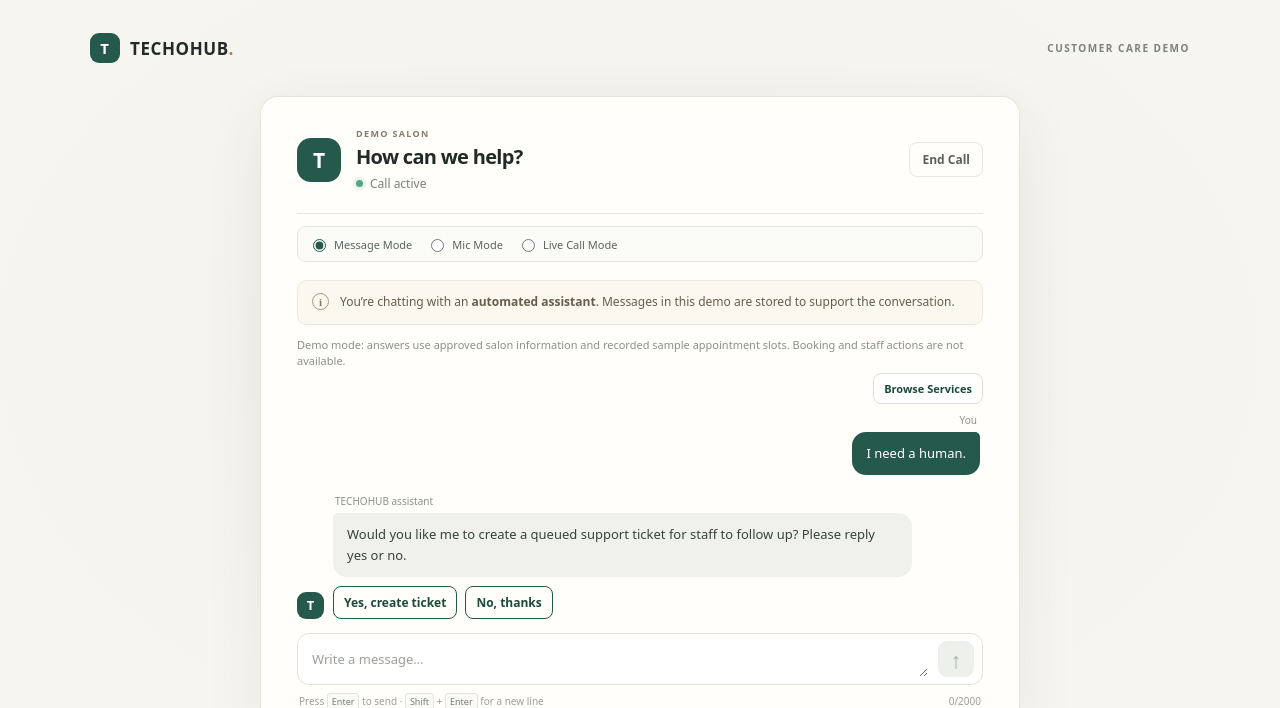
browser text chat › keeps handoff confirmation and catalog selection available across mode switches
The width and height of the screenshot is (1280, 708).
Earlier steps of the test are not shown.
(page scrolled)
Expected: the text "Would you like me to create a queued support ticket for staff to follow up? Please reply yes or no." is shown, [347, 525, 878, 564]
Click the radio button labelled "Live Call Mode" at (528, 246), box [522, 239, 535, 252]
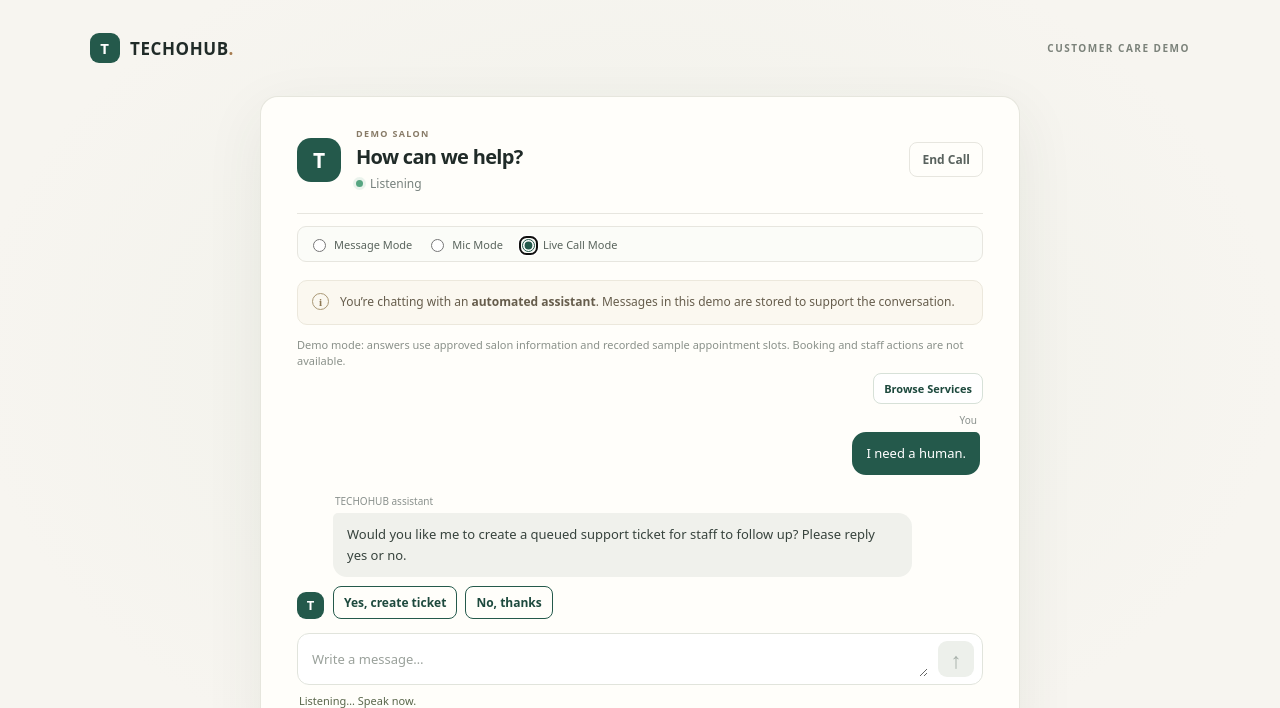
Click the radio button labelled "Mic Mode" at (438, 246), box [431, 239, 444, 252]
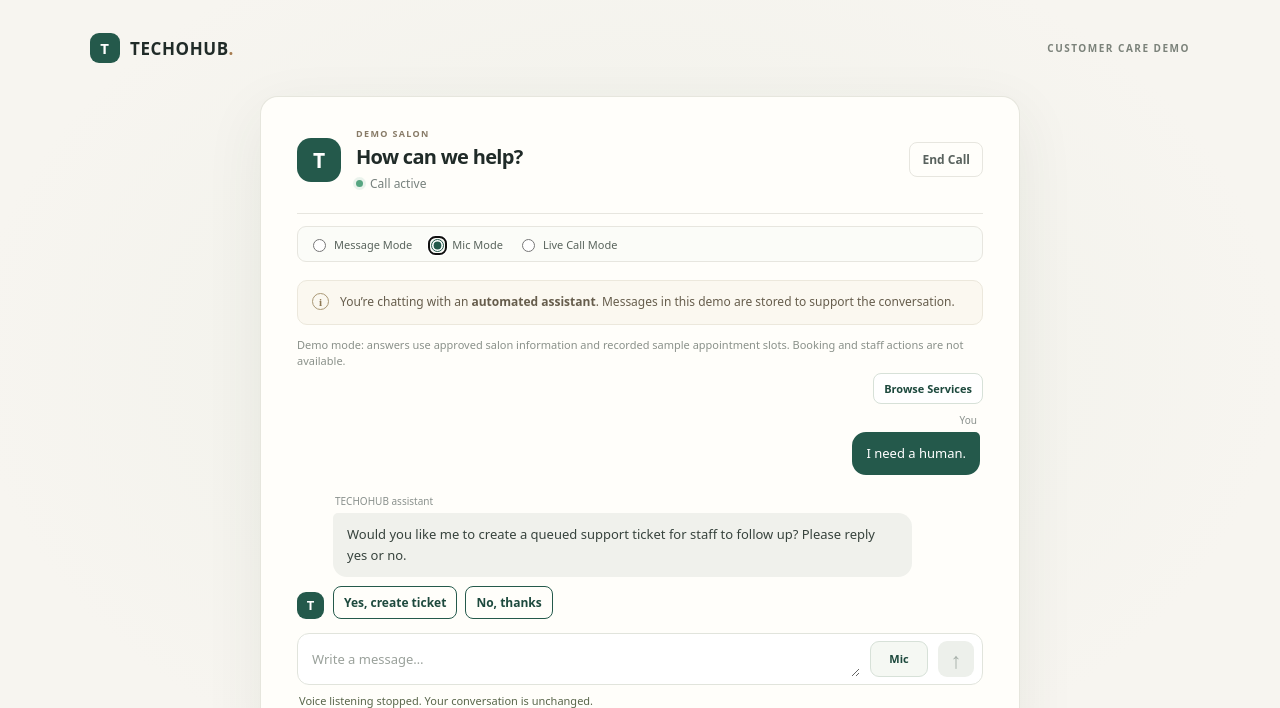
Click the button "Yes, create ticket" at (395, 602), box [333, 586, 457, 619]
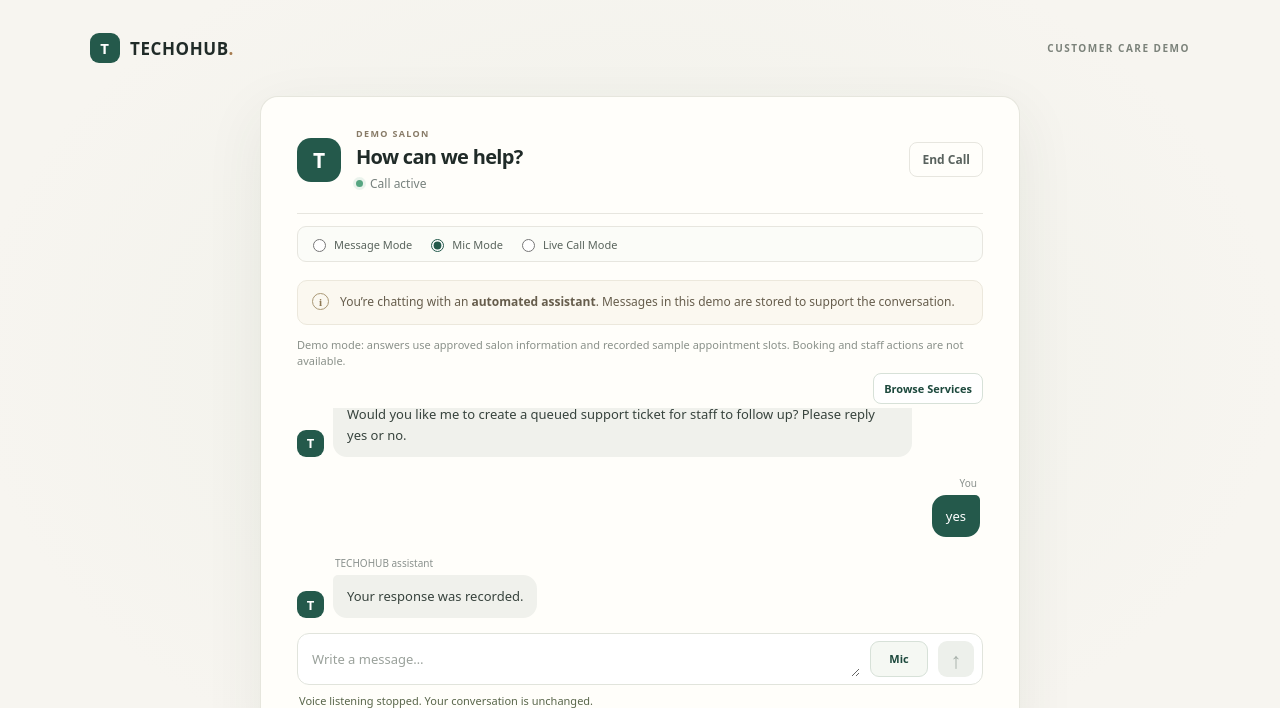
Expected: the text "yes" is shown, [932, 495, 980, 537]
Click the button "Browse Services" at (928, 388), box [873, 373, 983, 404]
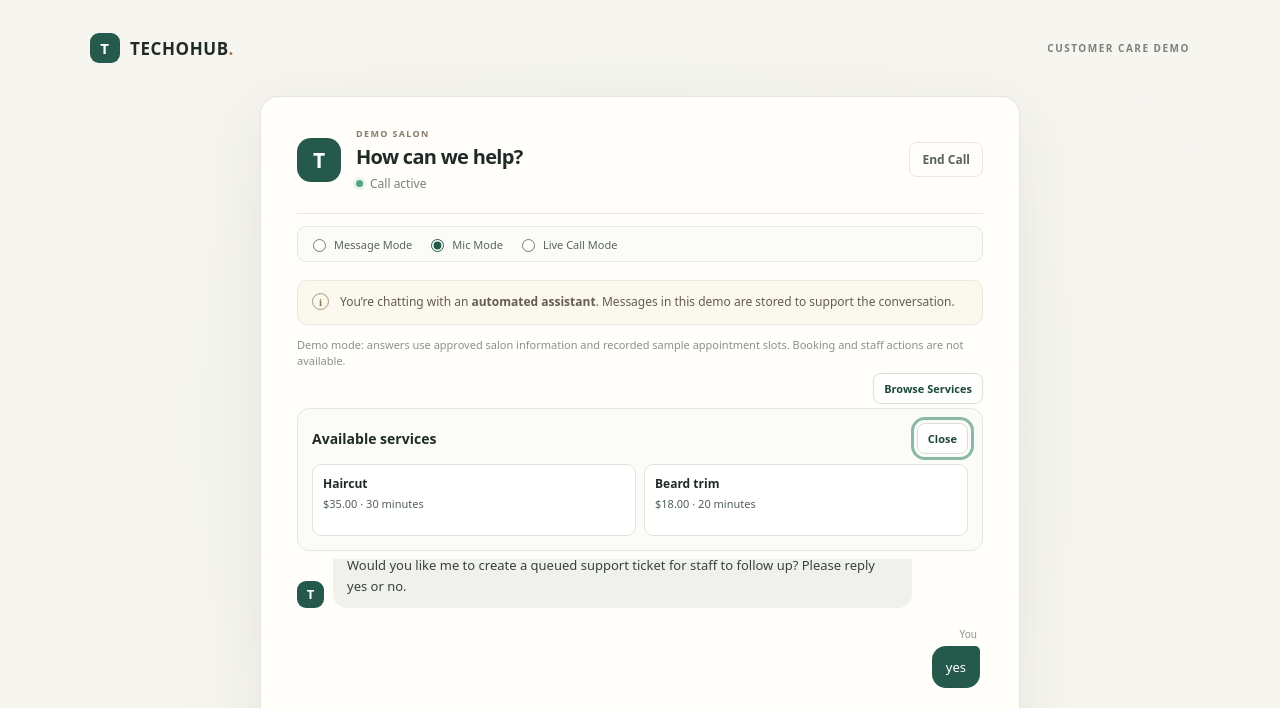
Expected: the button "Haircut $35.00 · 30 minutes" is shown, [312, 464, 636, 536]
Click the radio button labelled "Message Mode" at (320, 246), box [313, 239, 326, 252]
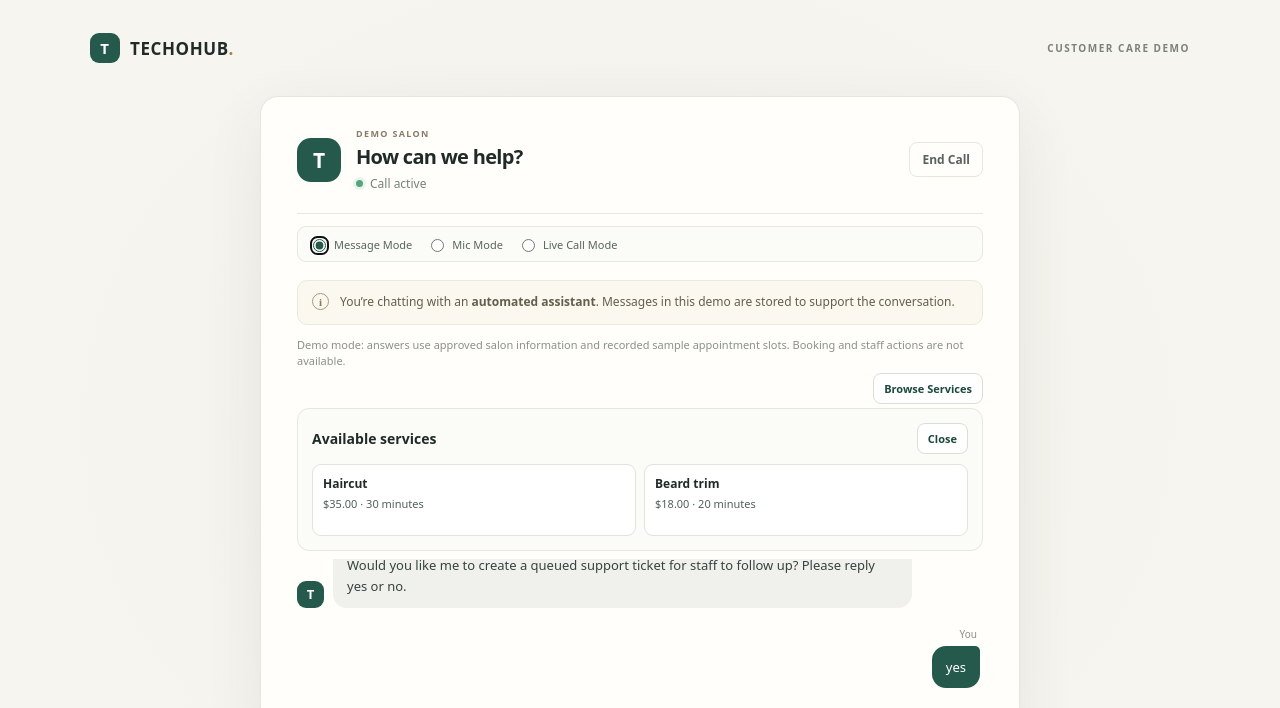
Click the button "Haircut $35.00 · 30 minutes" at (345, 483), box [312, 464, 636, 536]
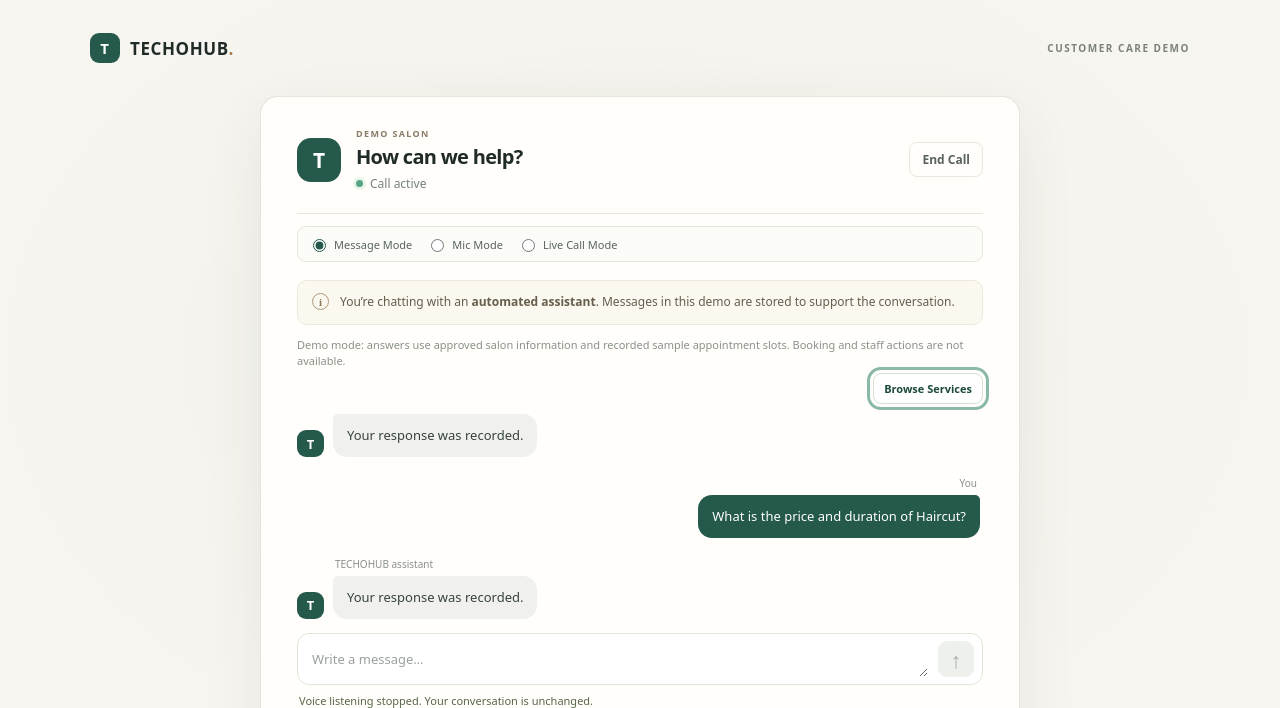
Expected: the text "What is the price and duration of Haircut?" is shown, [698, 495, 980, 538]
